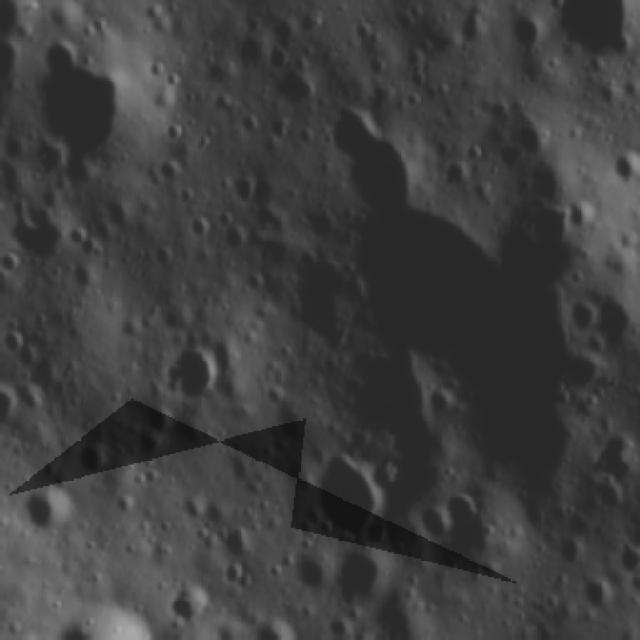crater: (317, 452, 383, 532), (16, 478, 78, 537), (168, 345, 226, 404), (564, 352, 604, 401), (166, 589, 208, 625), (510, 12, 547, 50), (418, 508, 452, 549), (564, 194, 598, 234), (216, 225, 253, 261), (582, 577, 620, 611), (100, 204, 134, 236), (232, 175, 262, 211), (607, 154, 640, 185), (568, 302, 603, 331), (148, 155, 184, 182), (452, 495, 478, 531), (221, 528, 256, 554), (608, 26, 634, 60), (459, 140, 488, 168), (3, 328, 29, 359), (150, 244, 179, 270), (25, 391, 47, 418), (298, 79, 320, 103), (162, 125, 189, 144), (112, 496, 139, 515), (223, 568, 246, 590), (142, 434, 170, 452), (143, 60, 171, 77), (162, 72, 182, 93)
